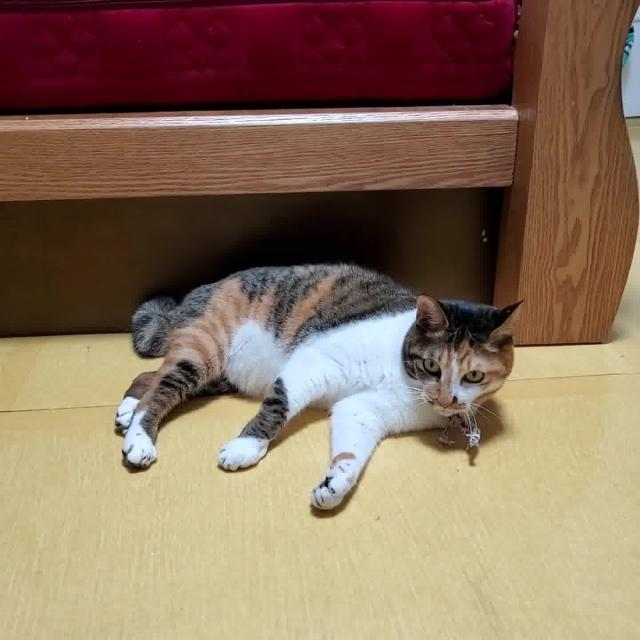cat: (111, 255, 534, 518)
